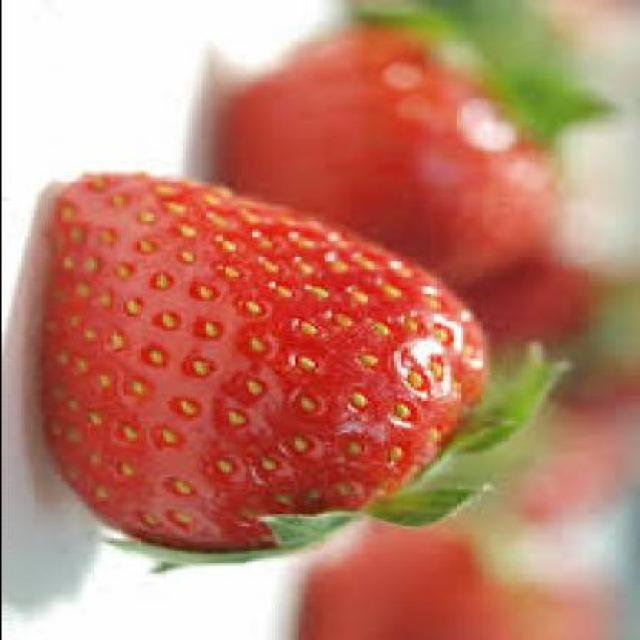BIODEGRADABLE: (36, 168, 572, 563), (208, 19, 574, 336), (300, 520, 551, 638), (475, 264, 594, 368)
